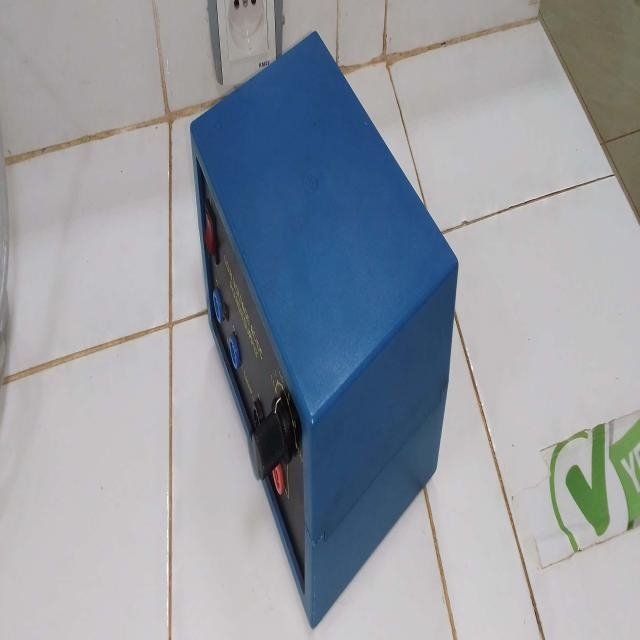Analog DC Power Supply: (188, 30, 461, 629)
